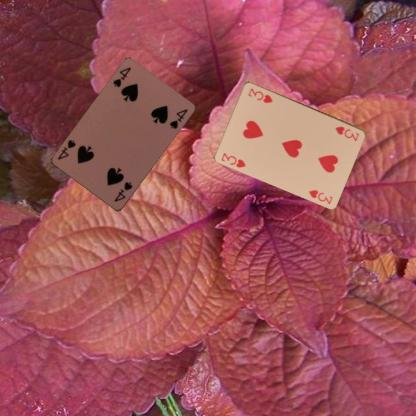3h: (219, 150, 247, 169), (333, 124, 360, 142)
4s: (112, 179, 134, 203), (110, 65, 132, 89)
